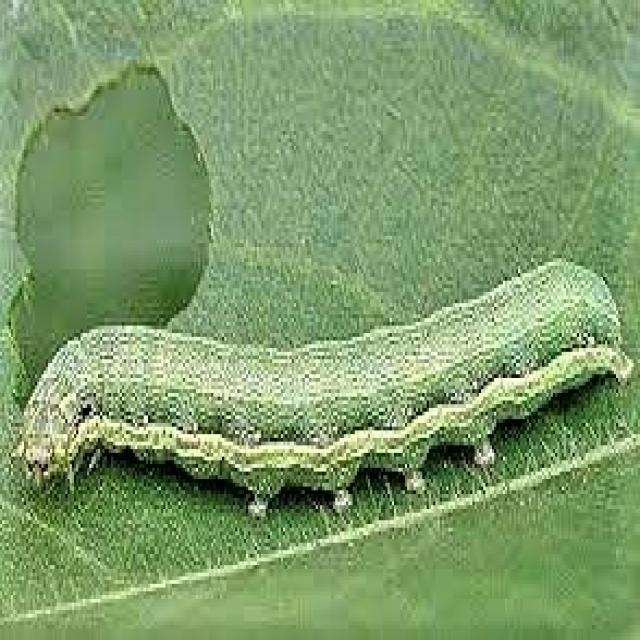Aphids: (7, 53, 216, 386)
Army worm: (13, 251, 636, 516)
